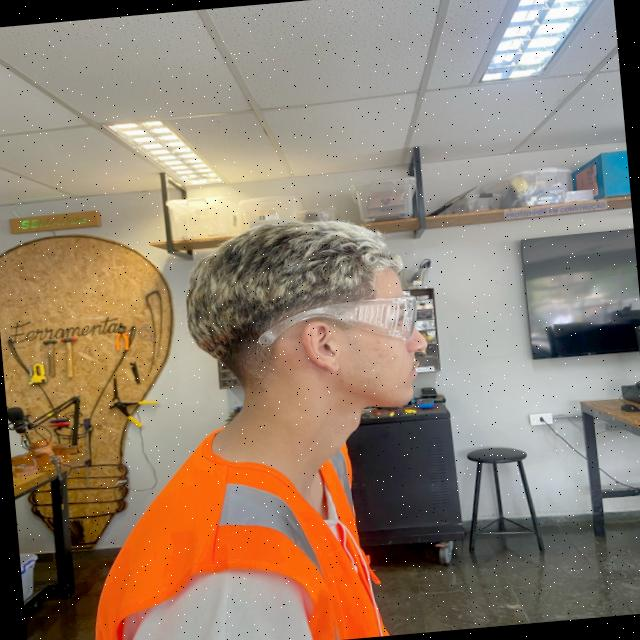COLETE: (96, 425, 401, 640)
OCULOS: (257, 295, 417, 349)
